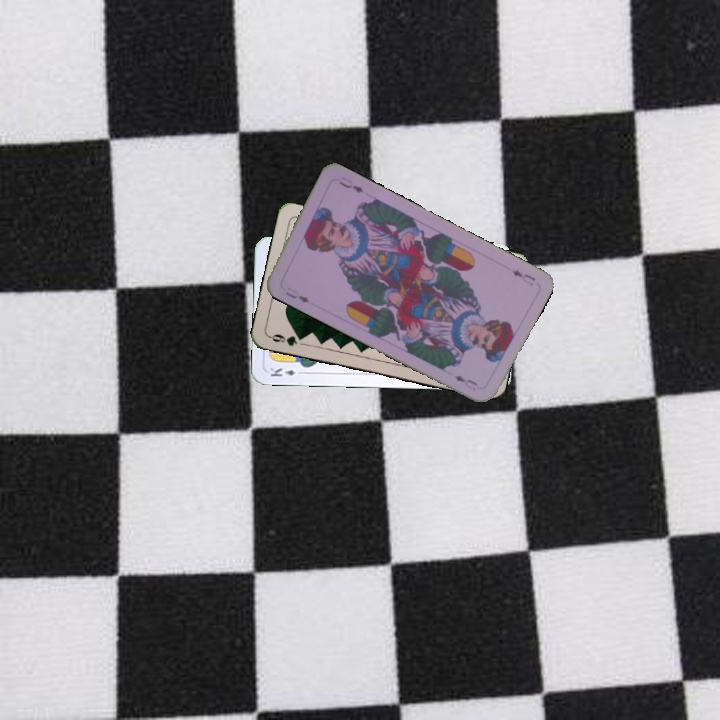EK: (266, 363, 306, 379)
EU: (281, 283, 312, 306), (508, 266, 538, 288)
G9: (265, 330, 307, 349)
